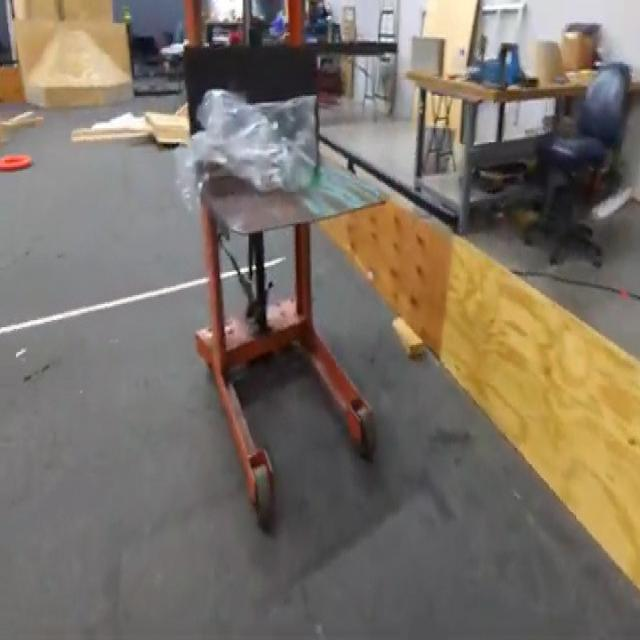note: (0, 153, 33, 174)
